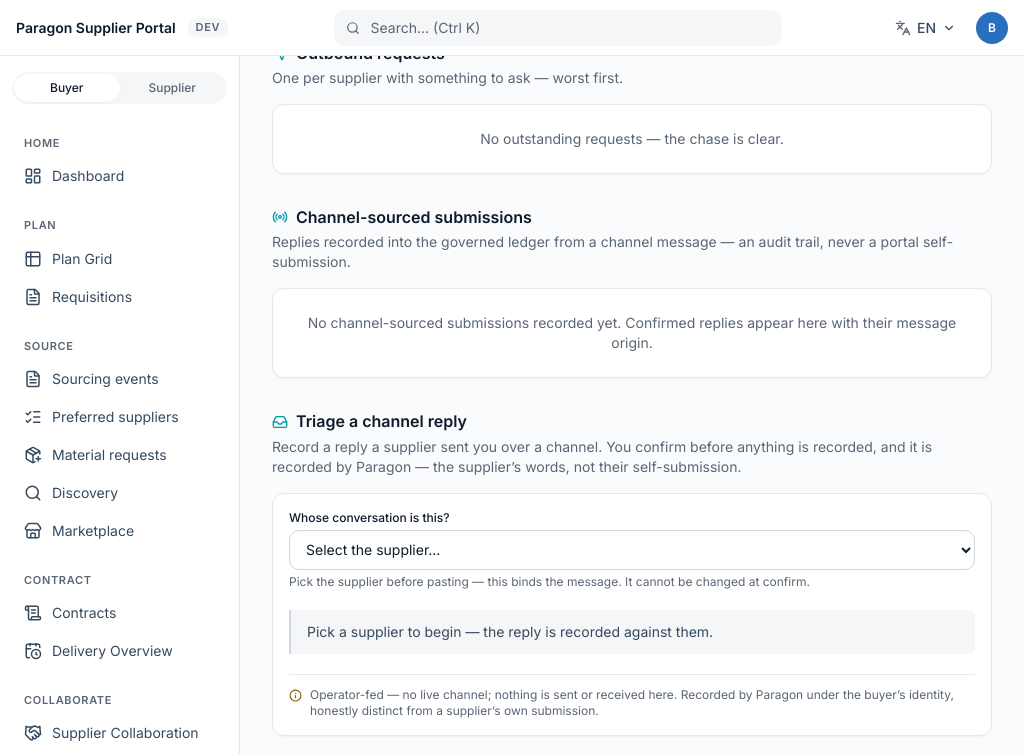
it: BuyerCommHub — the buyer/planner Communication Hub (C4a) › recording via the in-place panel adds a row to the Channel-sourced submissions trail
This screenshot has width=1024, height=754.
(page scrolled)
Check: the text "No channel-sourced submissions" is shown, box 308,314 -> 956,351
Bind the subject, paste, parse, map the material, confirm.
Select "PT Sample Packaging Indonesia" in the dropdown with test id "triage-supplier" at (632, 550), box 289,530 -> 975,570
(page scrolled)
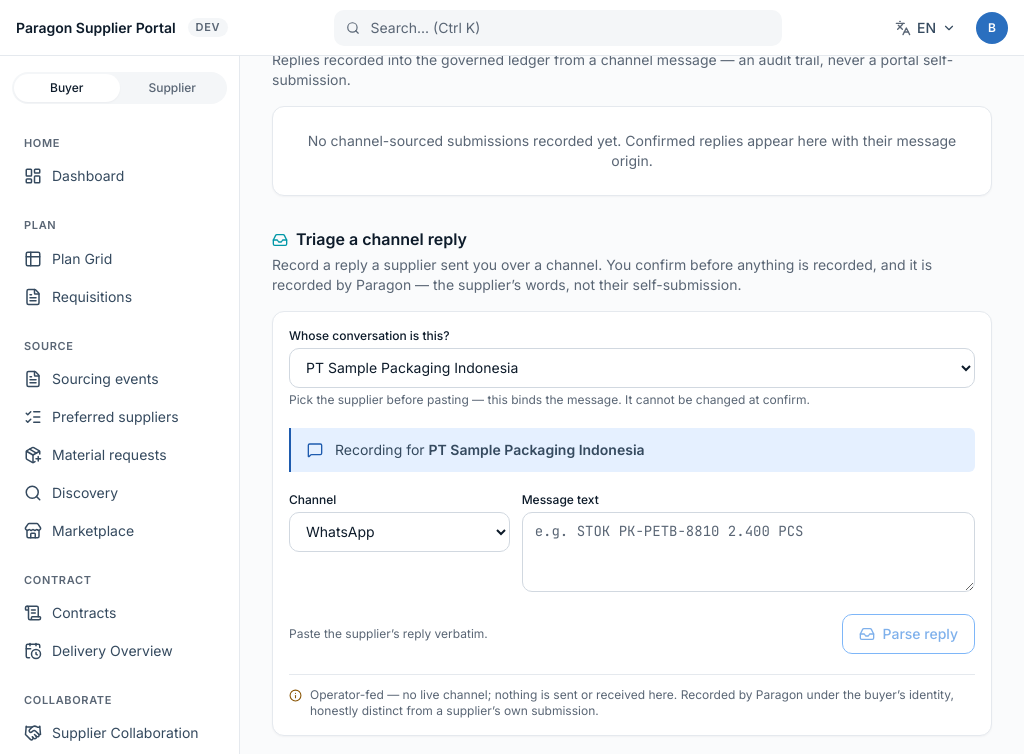
Type "STOK PK-PETB-8810 2400 KG" into the text box with test id "triage-message".
click(748, 552); type("STOK PK-PETB-8810 2400 KG")  # box 522,512 -> 975,592
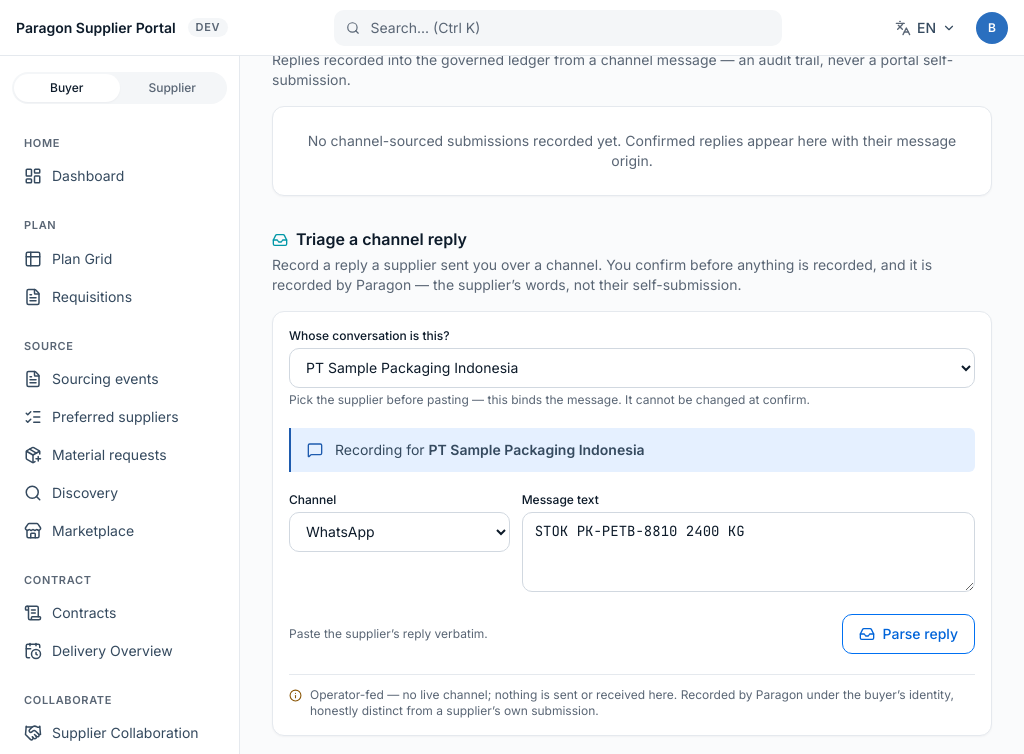
Click the button with test id "triage-parse".
click(908, 634)  # box 842,614 -> 975,654
(page scrolled)
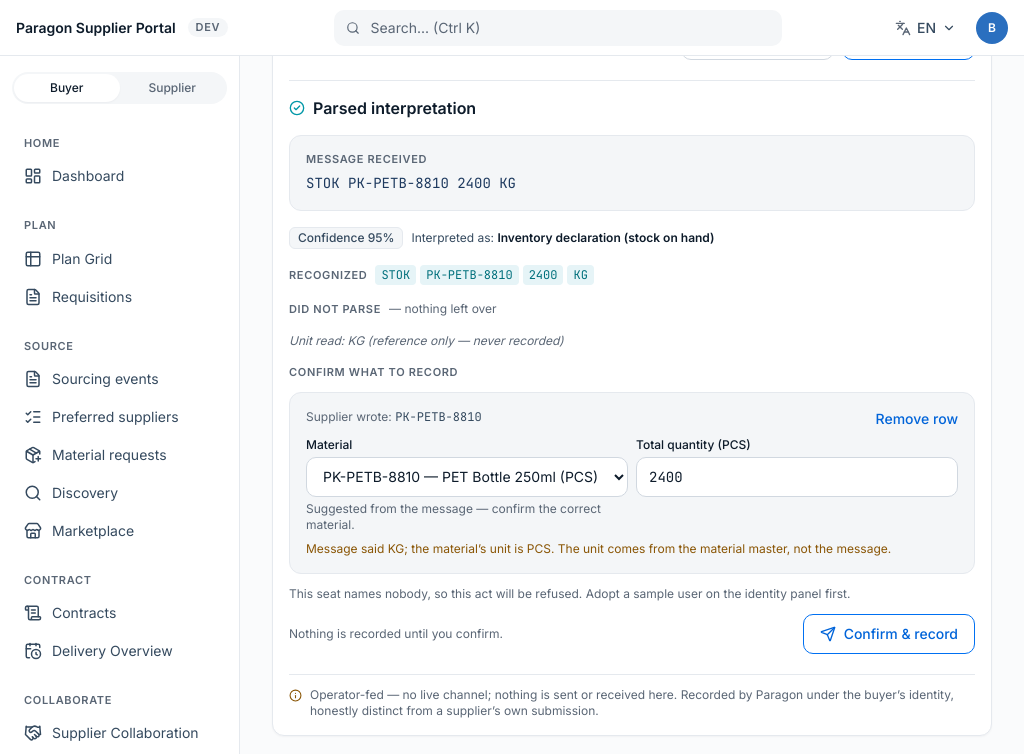
Select "PK-PETB-8810 — PET Bottle 250ml (PCS)" in the dropdown with test id "triage-mat-0" at (467, 477), box 306,457 -> 628,497
Click the button with test id "triage-confirm".
click(889, 634)  # box 803,614 -> 975,654
(page scrolled)
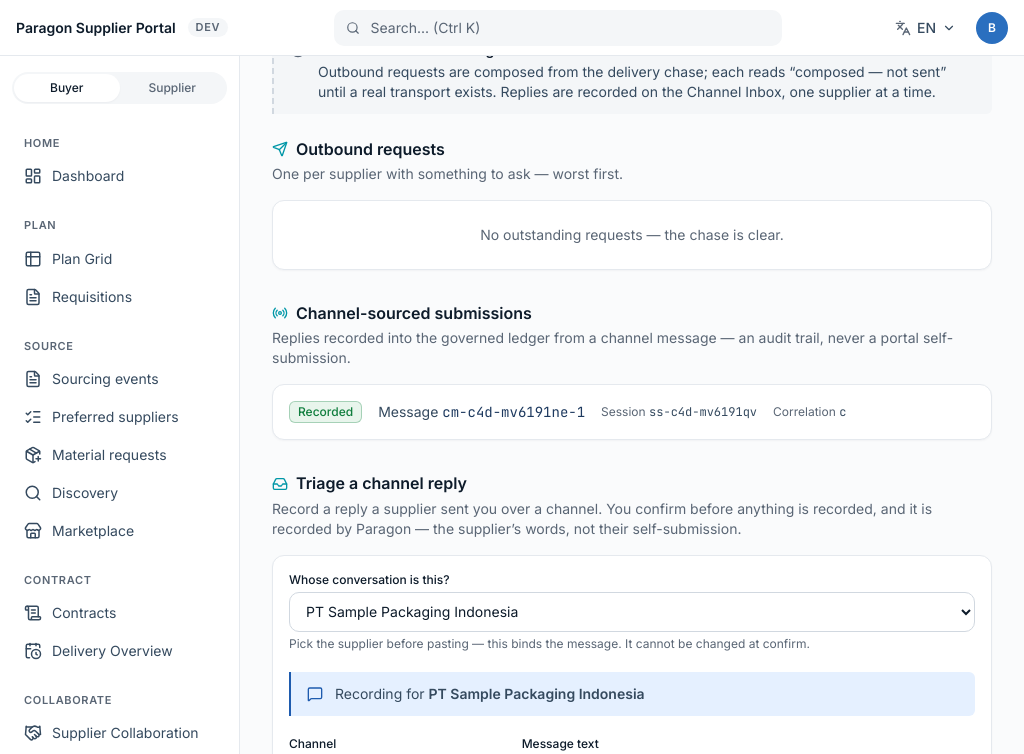
Check: the number of list items with test id "commhub-provenance-row" is 1, box 272,384 -> 992,440
Check: the text "Recorded" is shown, box 289,401 -> 362,423
